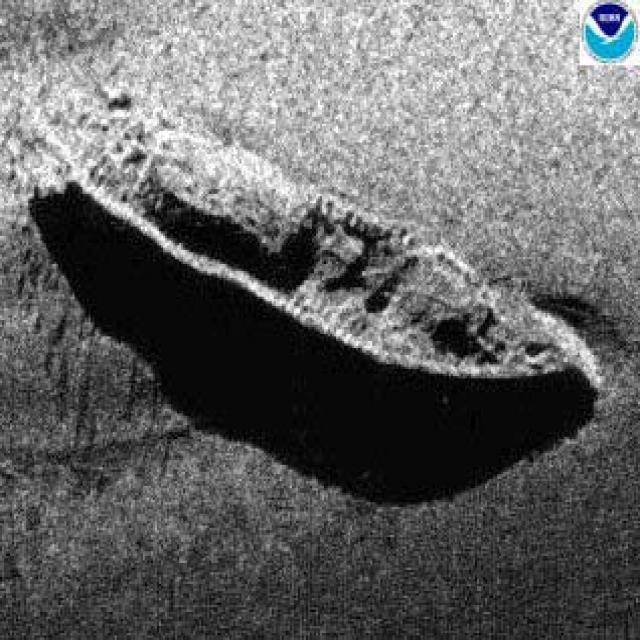shipwreck: (62, 117, 584, 381)
